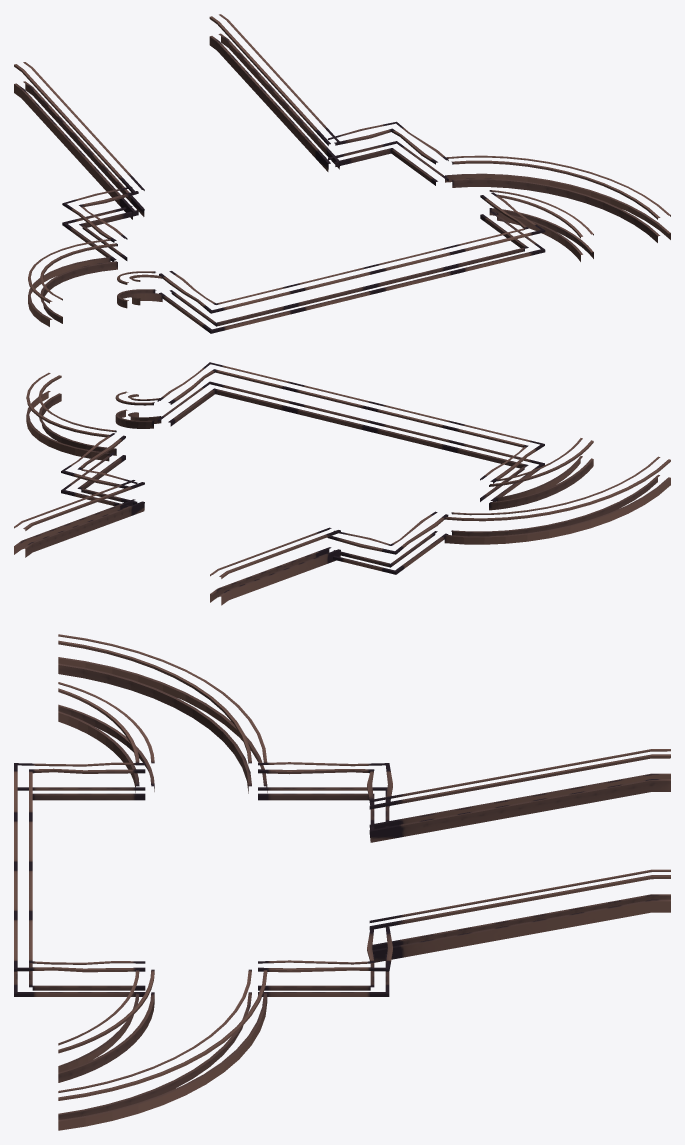
Rendered from Wood_01.FBX.
3 renders of one model, top to bottom at view 1: azimuth 30°, elevation 25°; view 2: azimuth 150°, elevation 25°; view 3: azimuth 270°, elevation 25°, orthographic. The views are drawn at different scales.
Visible parts, largest first — view 1: Wood_01; view 2: Wood_01; view 3: Wood_01.
Part boxes in pixels (x1,y1,x2,y2): Wood_01: (14,14,670,333); Wood_01: (14,362,670,605); Wood_01: (14,634,670,1130).
Bounding box in the file's own units: 48.28 × 7.41 × 35.
